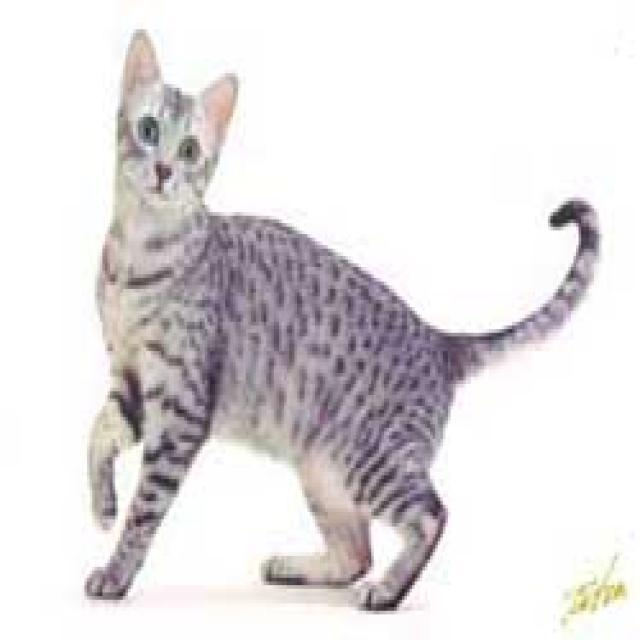Egyptian_Mau: (110, 25, 244, 232)
